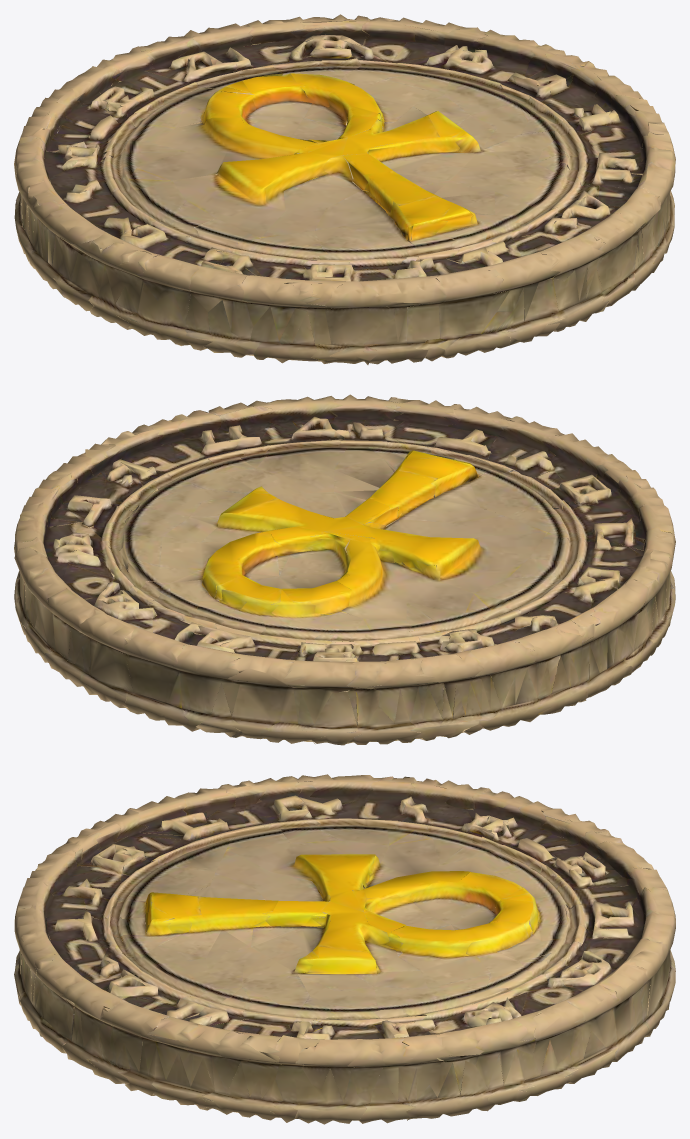
File: rune_ankh_dec.glb
The picture shows the model from 3 angles, top to bottom: view 1: azimuth 30°, elevation 25°; view 2: azimuth 150°, elevation 25°; view 3: azimuth 270°, elevation 25°; orthographic projection.
Visible parts, largest first — view 1: Mesh_0.010; view 2: Mesh_0.010; view 3: Mesh_0.010.
Boxes of the visible parts, box(x1,y1,x2,y2) form: Mesh_0.010: box(14, 14, 675, 364); Mesh_0.010: box(14, 394, 675, 745); Mesh_0.010: box(14, 774, 675, 1124).
Bounding box in the file's own units: 1.91 × 0.2781 × 1.91.
Materials: 1 (1 with a texture image).
